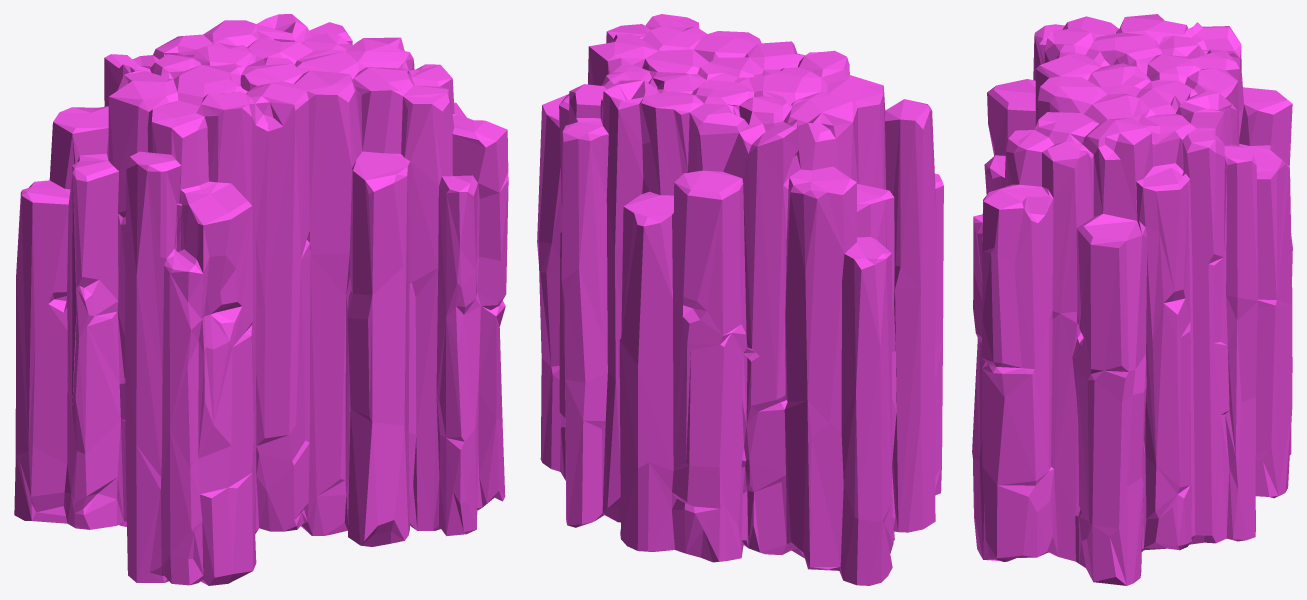
Rendered from SM_Rock_Bazalt_D_Fantasy.fbx.
3 views of the same model, side by side, from view 1: azimuth 30°, elevation 25°; view 2: azimuth 150°, elevation 25°; view 3: azimuth 270°, elevation 25° (orthographic). The views are drawn at different scales.
Visible parts, largest first — view 1: SM_Rock_Bazalt_D_Fantasy; view 2: SM_Rock_Bazalt_D_Fantasy; view 3: SM_Rock_Bazalt_D_Fantasy.
Boxes of the visible parts, x1,y1,x2,y2 form: SM_Rock_Bazalt_D_Fantasy: (14, 14, 508, 585); SM_Rock_Bazalt_D_Fantasy: (537, 14, 943, 585); SM_Rock_Bazalt_D_Fantasy: (972, 14, 1292, 585).
Size of the model in its own units: 4.29 by 4.73 by 3.12.
